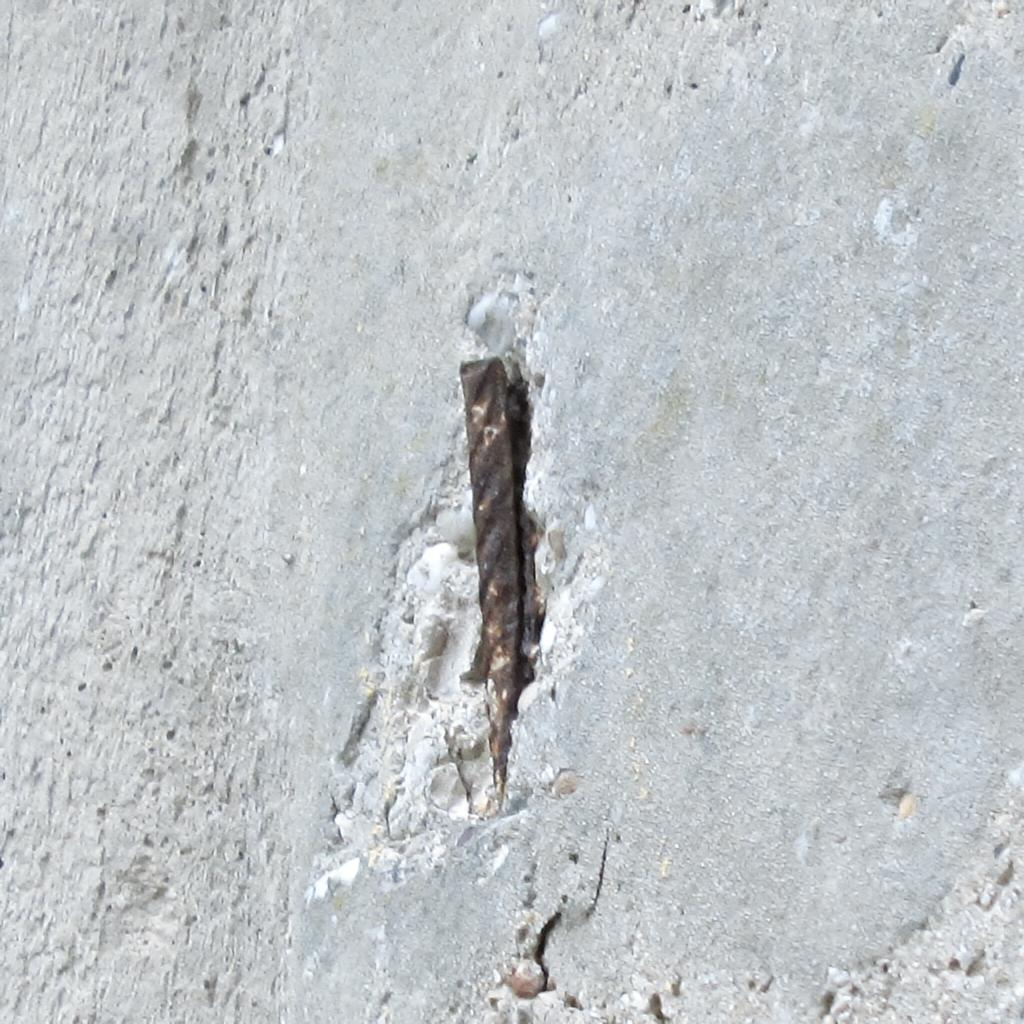exposed_rebar: (460, 358, 542, 797)
spalling: (308, 278, 608, 900)
